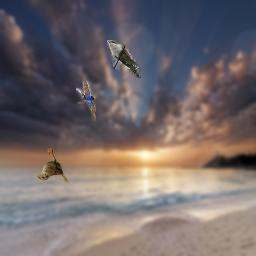Cuckoo: (107, 40, 141, 78)
Sparrow: (37, 148, 69, 183)
Swallow: (76, 81, 96, 121)
